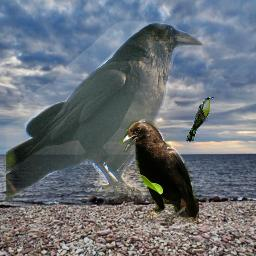Crow: (6, 21, 205, 203), (120, 119, 199, 226)
Cuckoo: (186, 97, 214, 142)
